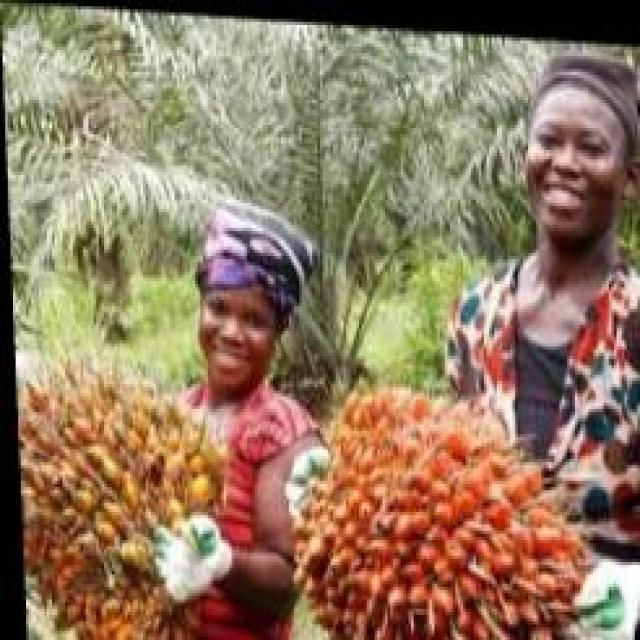Ripefruit: (293, 371, 579, 640), (14, 356, 220, 640)
